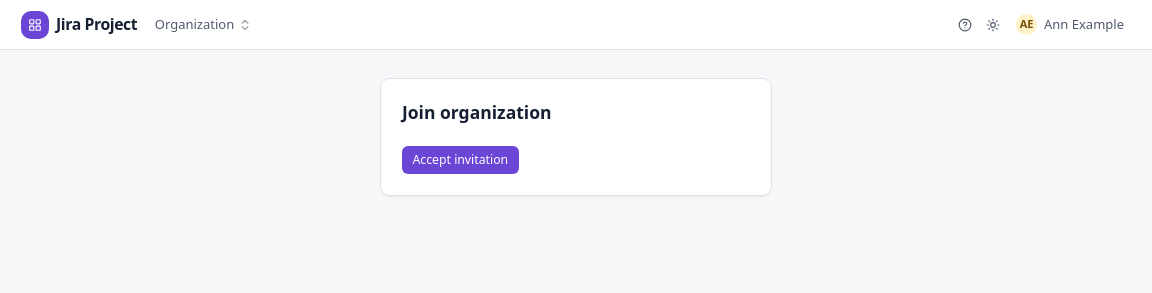
Test: AcceptInvitationPage › explains an email mismatch
What coordinates should you click on to do the following:
click the button "Accept invitation"
I would click on:
 (460, 160)
Its box is 402,146 -> 519,174.
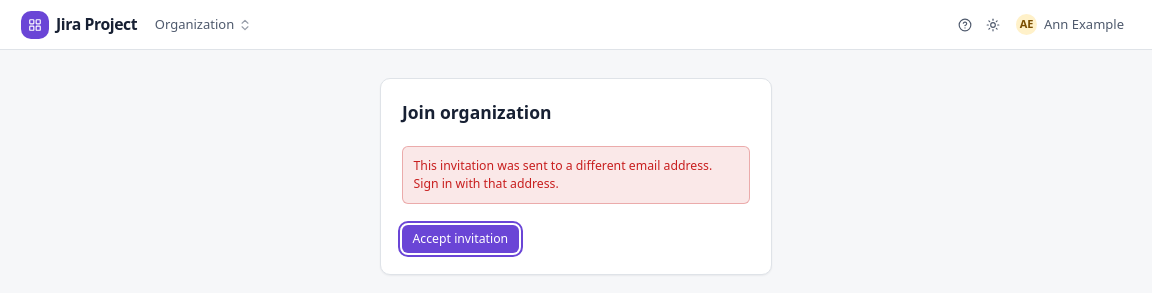
Result: the message shows "different email address" at 414,157 -> 712,192
